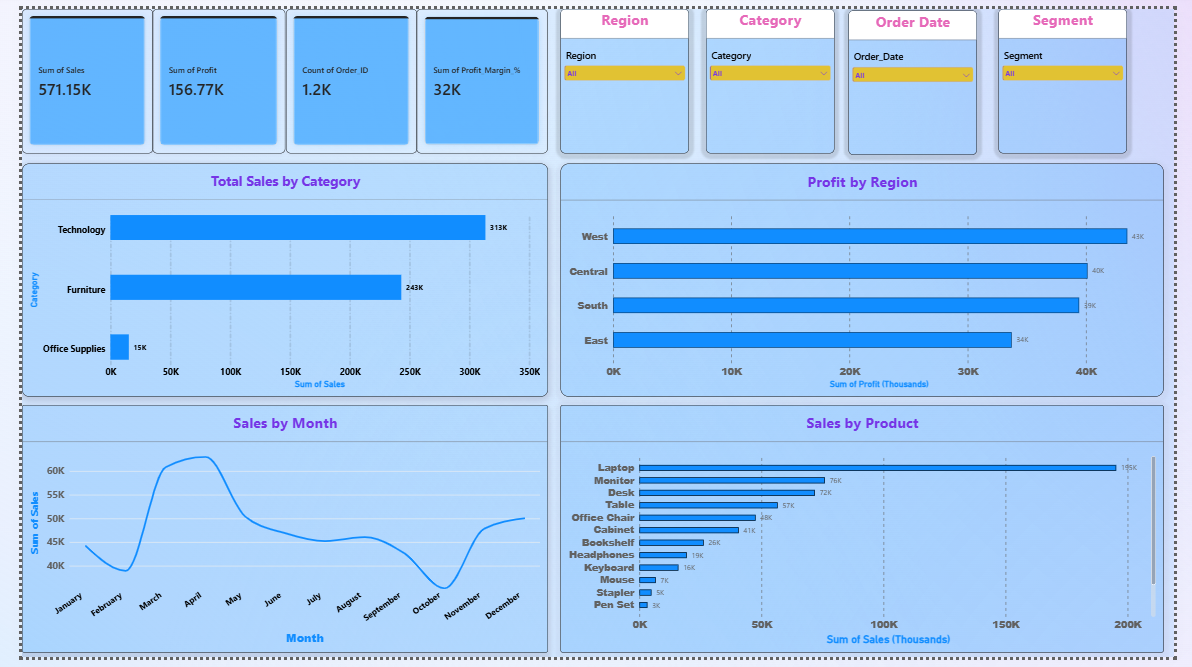

The page's visual inventory and layout, read from the dashboard file:
{"tool":"powerbi","page":{"name":"Page 1","canvas":[1920,1080],"ordinal":0},"visuals":[{"type":"cardVisual","fields":{"Data":["Sum(cleaned_retail_sales.Sales)"]},"box":[0,0,218.6,240.5],"z":0},{"type":"cardVisual","fields":{"Data":["Sum(cleaned_retail_sales.Profit)"]},"box":[218.6,0,221,240.5],"z":1000},{"type":"cardVisual","fields":{"Data":["Count(cleaned_retail_sales.Order_ID)"]},"box":[439.6,0,218.6,240.5],"z":2000},{"type":"cardVisual","fields":{"Data":["Sum(cleaned_retail_sales.Profit_Margin_%)"]},"box":[658.2,0,218.6,240.5],"z":3000},{"type":"lineChart","title":"Sales by Month","fields":{"Category":["cleaned_retail_sales.Order_Date.Variation.Date Hierarchy.Month"],"Y":["Sum(cleaned_retail_sales.Sales)"]},"box":[0,660.6,876.8,412.9],"z":4000},{"type":"barChart","title":"Total Sales by Category","fields":{"Category":["cleaned_retail_sales.Category"],"Y":["Sum(cleaned_retail_sales.Sales)"]},"box":[0,257.5,876.8,388.6],"z":5000},{"type":"barChart","title":"Profit by Region","fields":{"Category":["cleaned_retail_sales.Region"],"Y":["Sum(cleaned_retail_sales.Profit)"]},"box":[898.7,257.5,1005.5,388.6],"z":6000},{"type":"textbox","box":[897,377,432,274],"z":7000},{"type":"barChart","title":"Sales by Product","fields":{"Category":["cleaned_retail_sales.Product"],"Y":["Sum(cleaned_retail_sales.Sales)"]},"box":[898.7,660.6,1005.5,412.9],"z":8000},{"type":"slicer","title":" Region","fields":{"Values":["cleaned_retail_sales.Region"]},"box":[898.7,0,213.7,240.5],"z":8001},{"type":"slicer","title":"Category","fields":{"Values":["cleaned_retail_sales.Category"]},"box":[1139.1,0,213.7,240.5],"z":8002},{"type":"slicer","title":"Order Date","fields":{"Values":["cleaned_retail_sales.Order_Date"]},"box":[1377.2,2.4,213.7,240.5],"z":8003},{"type":"slicer","title":"Segment","fields":{"Values":["cleaned_retail_sales.Segment"]},"box":[1627.3,0,213.7,240.5],"z":8004}]}

Visuals, with their boxes in screenshot pixels (x1, y1, x2, y2), scaled from the page's 1920x1080 canvas onto the 1192x667 screenshot:
cardVisual - Sum(cleaned_retail_sales.Sales): <bbox>0, 0, 136, 149</bbox>
cardVisual - Sum(cleaned_retail_sales.Profit): <bbox>136, 0, 273, 149</bbox>
cardVisual - Count(cleaned_retail_sales.Order_ID): <bbox>273, 0, 409, 149</bbox>
cardVisual - Sum(cleaned_retail_sales.Profit_Margin_%): <bbox>409, 0, 544, 149</bbox>
"Sales by Month" lineChart: <bbox>0, 408, 544, 663</bbox>
"Total Sales by Category" barChart: <bbox>0, 159, 544, 399</bbox>
"Profit by Region" barChart: <bbox>558, 159, 1182, 399</bbox>
textbox: <bbox>557, 233, 825, 402</bbox>
"Sales by Product" barChart: <bbox>558, 408, 1182, 663</bbox>
" Region" slicer: <bbox>558, 0, 691, 149</bbox>
"Category" slicer: <bbox>707, 0, 840, 149</bbox>
"Order Date" slicer: <bbox>855, 1, 988, 150</bbox>
"Segment" slicer: <bbox>1010, 0, 1143, 149</bbox>
